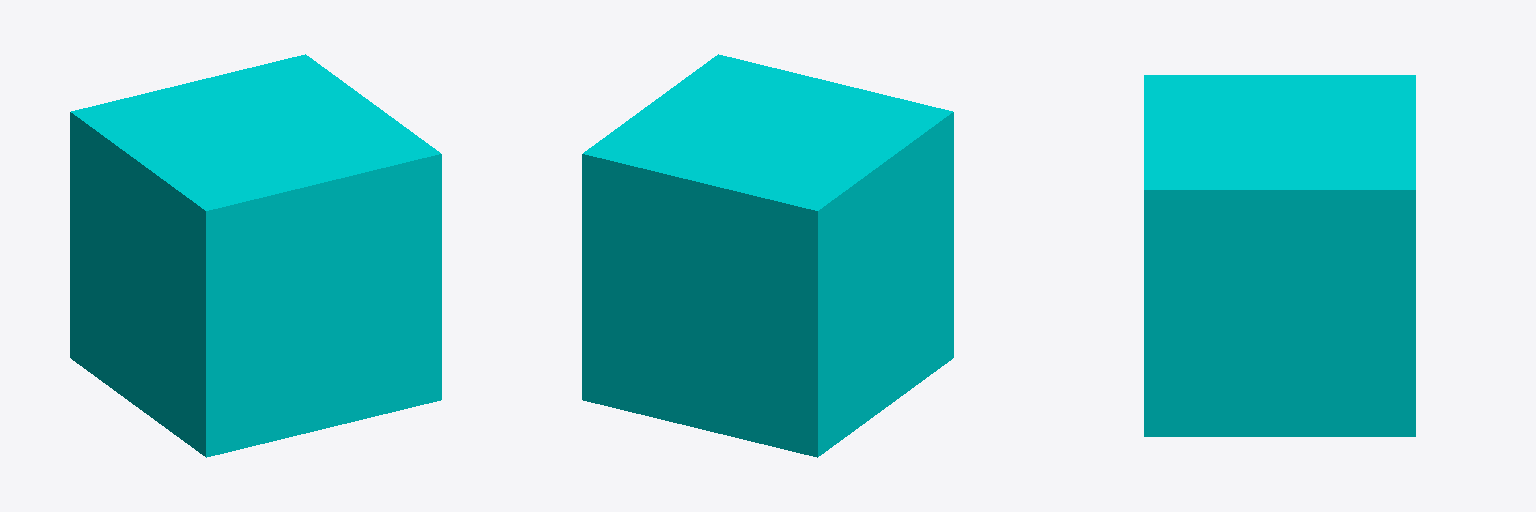
3 views of the same model, side by side, from view 1: azimuth 30°, elevation 25°; view 2: azimuth 150°, elevation 25°; view 3: azimuth 270°, elevation 25° (orthographic).
Visible parts, largest first — view 1: Cube; view 2: Cube; view 3: Cube.
Part boxes in pixels (left/top/right/bottom): Cube: left=70, top=54, right=441, bottom=457; Cube: left=582, top=54, right=953, bottom=457; Cube: left=1144, top=75, right=1415, bottom=436.
Bounding box in the file's own units: 2 × 2 × 2.
1 materials, 1 textured.